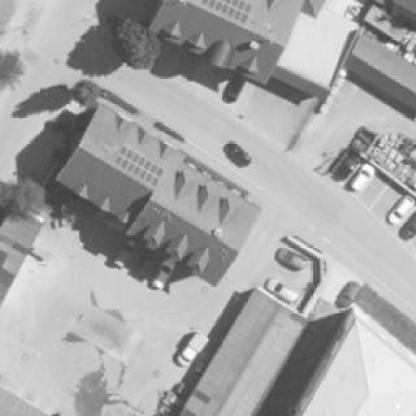solar-pv-panel: (114, 144, 165, 187), (201, 0, 252, 24)
